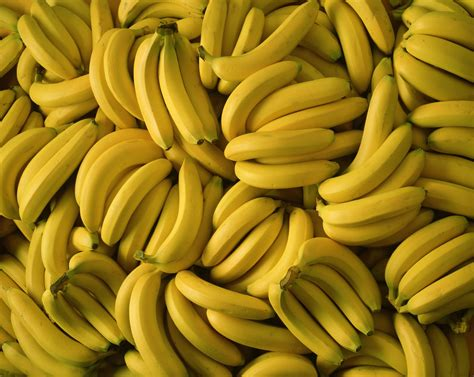banana: (18, 119, 101, 231), (208, 1, 320, 83), (293, 235, 385, 316), (127, 271, 189, 377), (152, 156, 205, 268), (169, 271, 276, 323), (297, 269, 375, 339), (160, 37, 206, 152), (317, 185, 431, 228), (133, 35, 173, 154), (223, 124, 338, 163), (42, 291, 112, 353), (15, 14, 80, 80)
